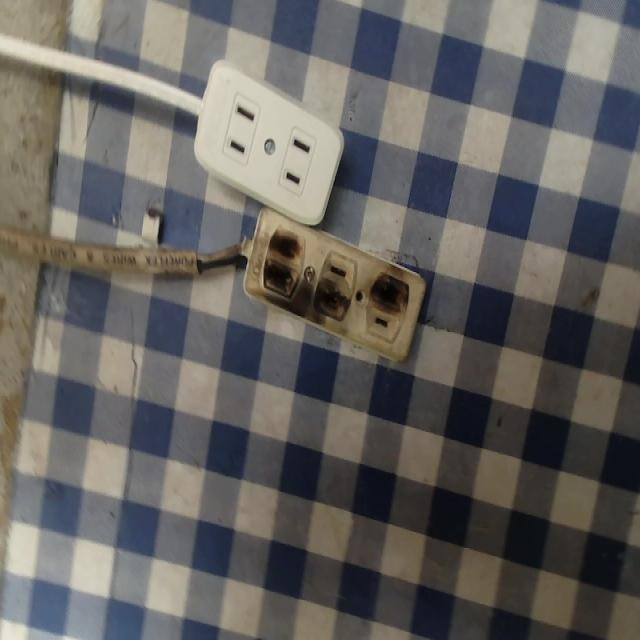-: (260, 224, 306, 308), (366, 256, 414, 316), (315, 275, 350, 332)
